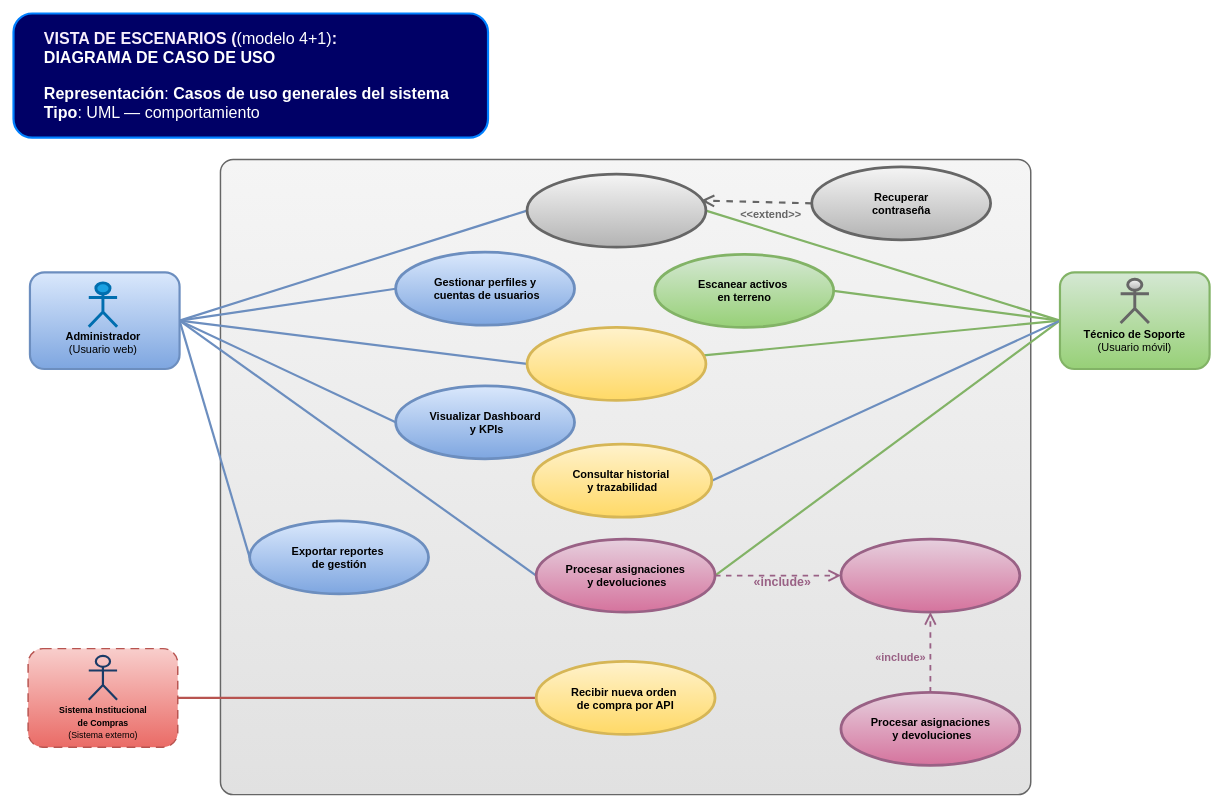
This 1223x808 diagram has some shape labels left out. The shapes that lost their labels are listed below. From the top down, each one's centre as x and y in pixels, then its label:
At point 616,210: "Autenticarse en el sistema".
At point 616,363: "Gestionar inventario de hardware y licencias".
At point 930,575: "Generar acta automática".
